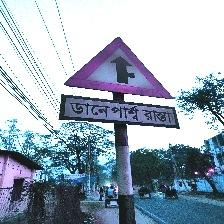Side-road-right: (61, 37, 179, 129)
